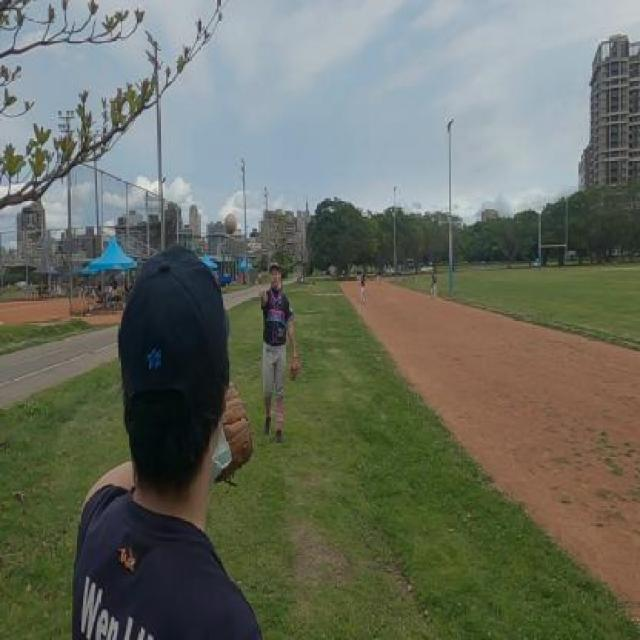baseball: (225, 213, 237, 235)
